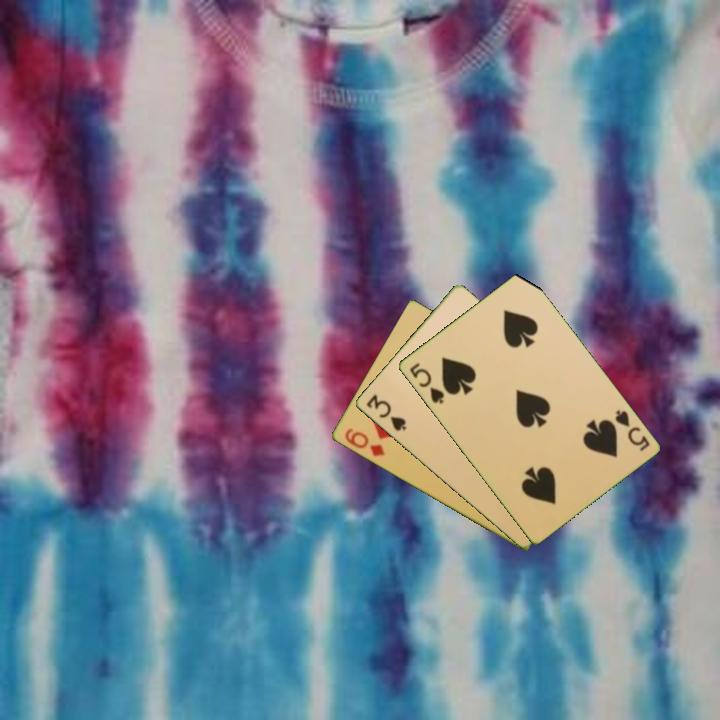3s: (362, 391, 409, 434)
5s: (405, 359, 447, 407), (611, 406, 653, 454)
6d: (341, 424, 388, 460)
